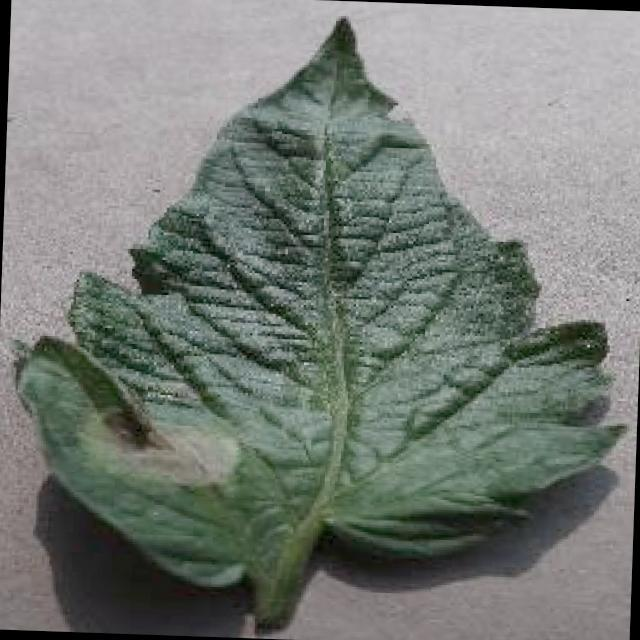Tomato late blight leaf: (0, 0, 639, 595)
